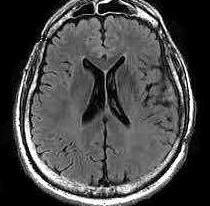Normal_Brain: (7, 1, 210, 206)
